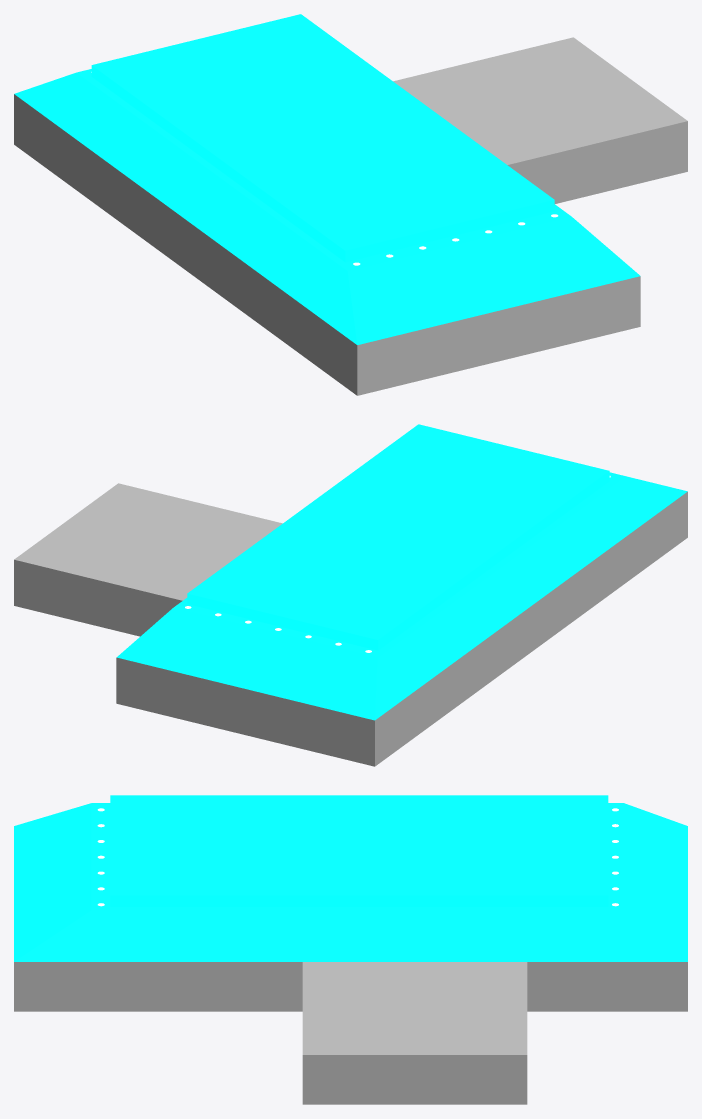
File: room.glb
The picture shows the model from 3 angles, top to bottom: view 1: azimuth 30°, elevation 25°; view 2: azimuth 150°, elevation 25°; view 3: azimuth 270°, elevation 25°; orthographic projection. The views are drawn at different scales.
Visible parts, largest first — view 1: room-outline; view 2: room-outline; view 3: room-outline.
Part boxes in pixels (x1,y1,x2,y2): room-outline: (14,14,687,395); room-outline: (14,424,687,766); room-outline: (14,795,687,1104).
Size of what is drawn, in the model's own units: 33.88 by 6.79 by 42.18.
